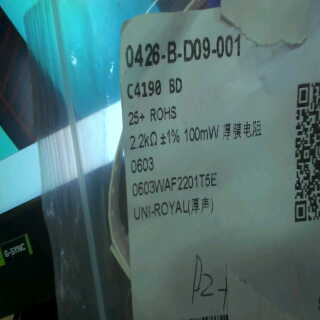2.2kR: (125, 129, 160, 155)
